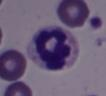N: (26, 25, 79, 71)
